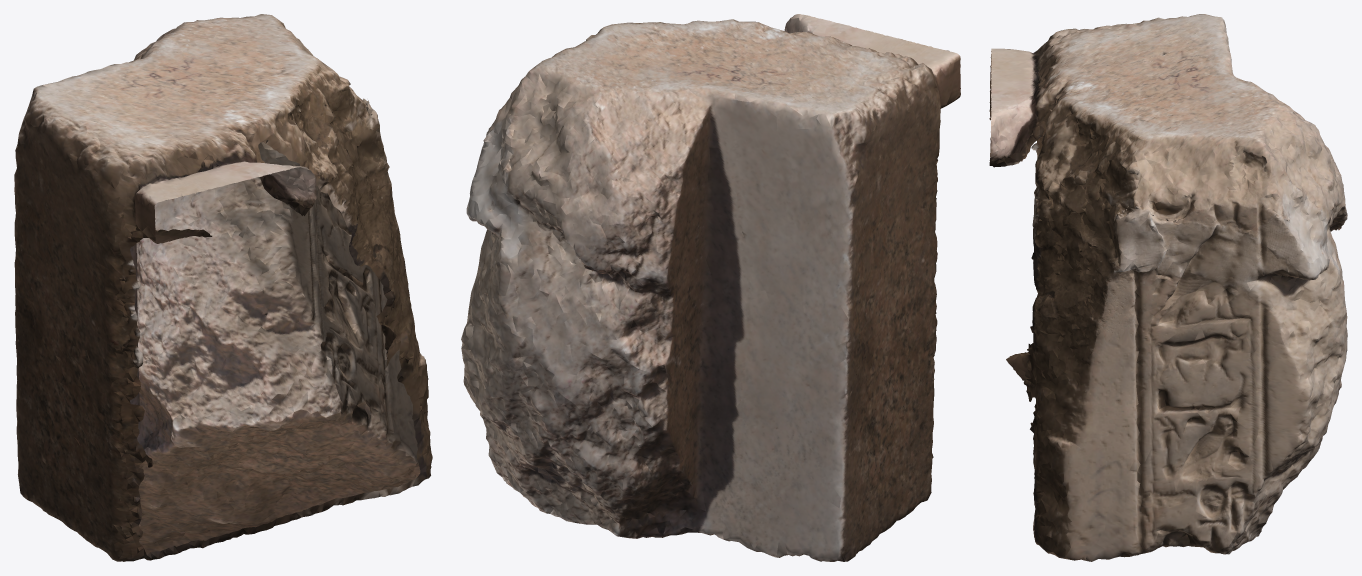
The model's file is m_granite_lowpoly.fbx.
3 renders of one model, left to right at view 1: azimuth 30°, elevation 25°; view 2: azimuth 150°, elevation 25°; view 3: azimuth 270°, elevation 25°, orthographic. The views are drawn at different scales.
Parts seen in each view (by area): view 1: ASS2442_GRANITE; view 2: ASS2442_GRANITE; view 3: ASS2442_GRANITE.
Part boxes in pixels (<box>): ASS2442_GRANITE: <box>14,14,432,561</box>; ASS2442_GRANITE: <box>461,14,960,561</box>; ASS2442_GRANITE: <box>989,14,1347,561</box>.
Size of the model in its own units: 246 by 292 by 231.
1 material, 1 textured.
